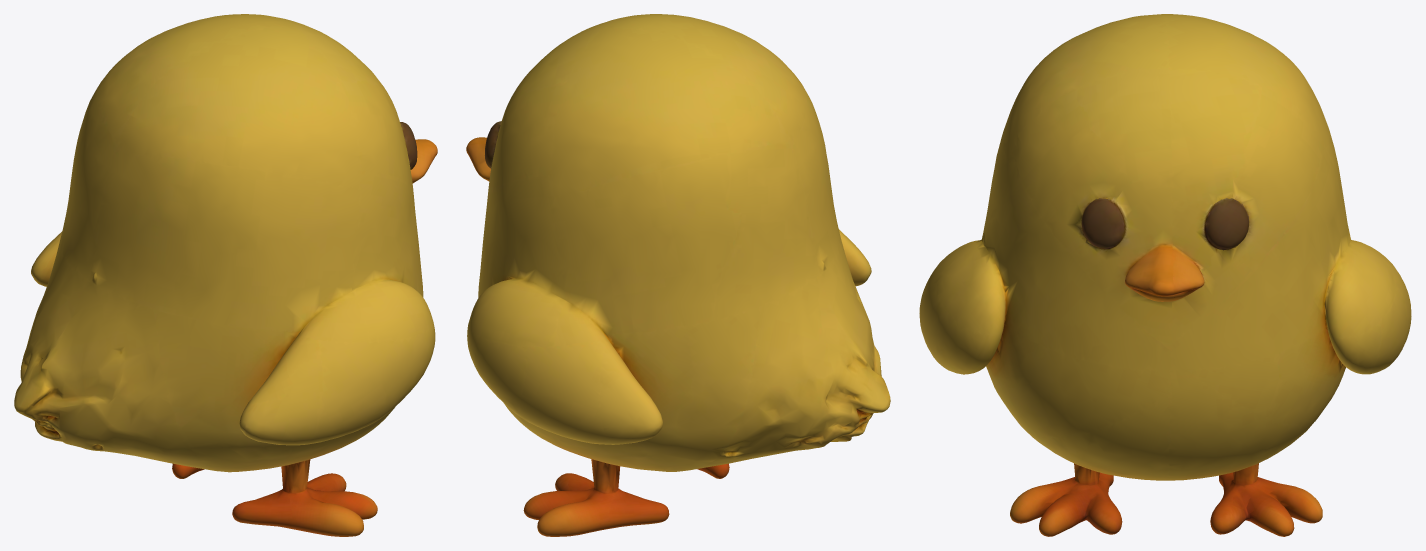
The model's file is chick.glb.
3 views of the same model, side by side, from view 1: azimuth 30°, elevation 25°; view 2: azimuth 150°, elevation 25°; view 3: azimuth 270°, elevation 25° (orthographic). The views are drawn at different scales.
Visible parts, largest first — view 1: tripo_node_1e7829ca-a2be-4583-bc21-04219af6c806; view 2: tripo_node_1e7829ca-a2be-4583-bc21-04219af6c806; view 3: tripo_node_1e7829ca-a2be-4583-bc21-04219af6c806.
Part boxes in pixels (x1,y1,x2,y2): tripo_node_1e7829ca-a2be-4583-bc21-04219af6c806: [14, 14, 437, 536]; tripo_node_1e7829ca-a2be-4583-bc21-04219af6c806: [466, 14, 890, 536]; tripo_node_1e7829ca-a2be-4583-bc21-04219af6c806: [919, 14, 1411, 536].
Size of the model in its own units: 0.95 by 0.9999 by 0.9455.
Materials: 1 (1 with a texture image).
